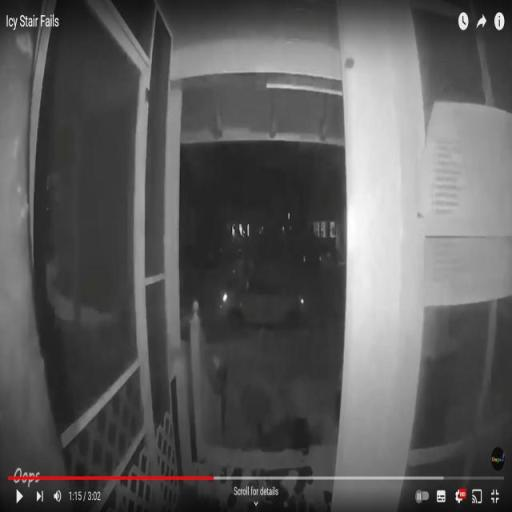Fall: (250, 405, 327, 456)
